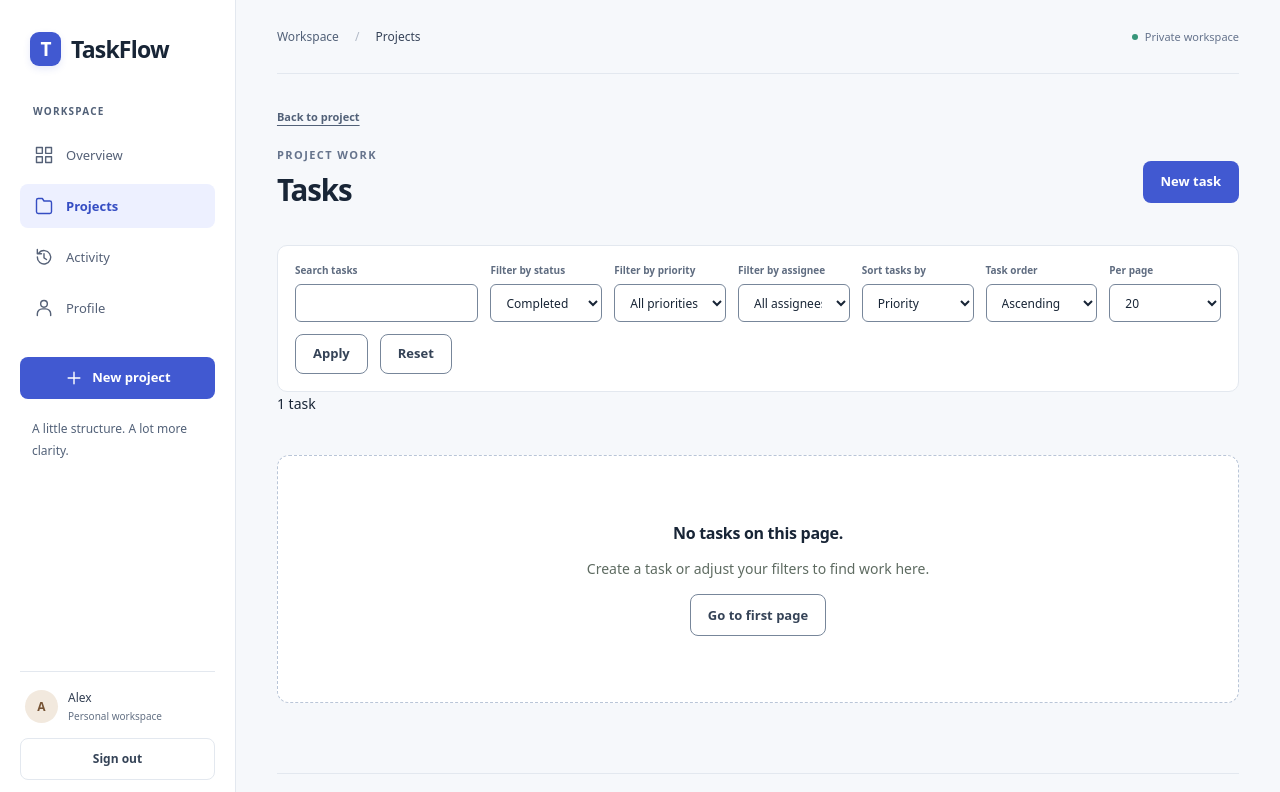
Test case: Task pages › returns an out-of-range filtered page to page one without dropping filters
Check: the heading "No tasks on this page." is shown, box [673,522,843,544]
Click the button "Go to first page". click: (758, 616)
box: [690,594,826,636]
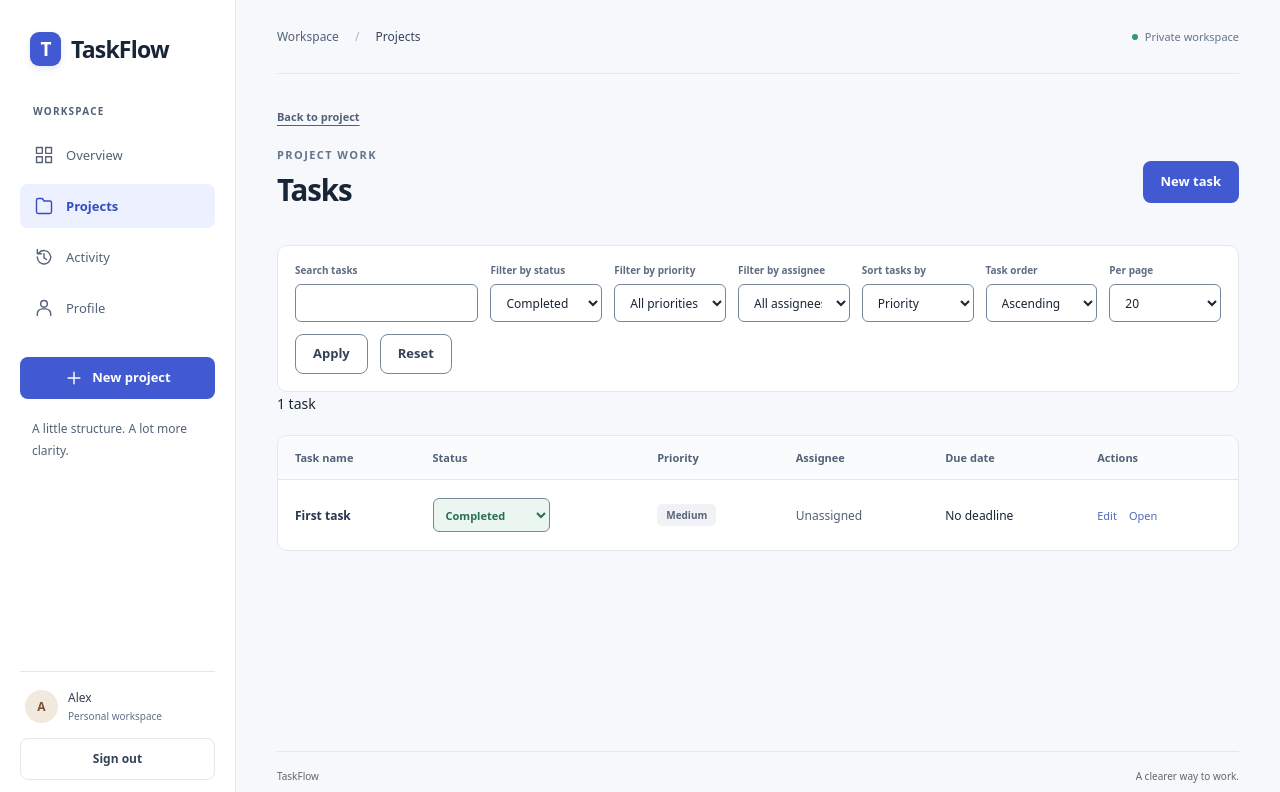
Check: the link "First task" is shown, box [295,507,351,524]
